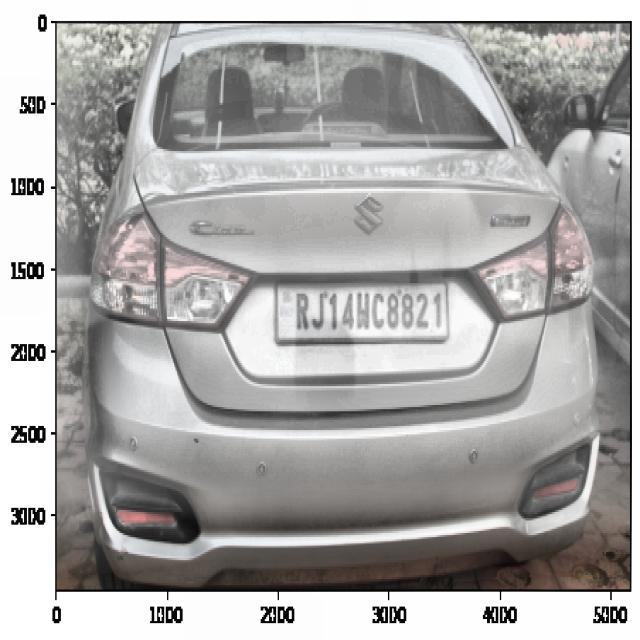license_plate: (288, 282, 451, 342)
